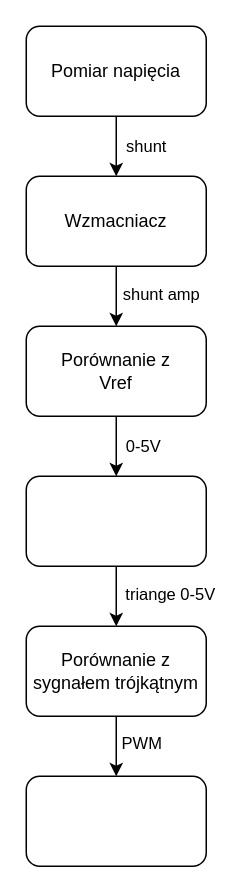
The diagram is 240 pixels wide and 893 high, and some of its shapes have lost their labels. The centre of each missing label's shape, as x and y in pixels:
Całkowanie: the point at 115,520
Przetwornica impulsowa: the point at 115,820
